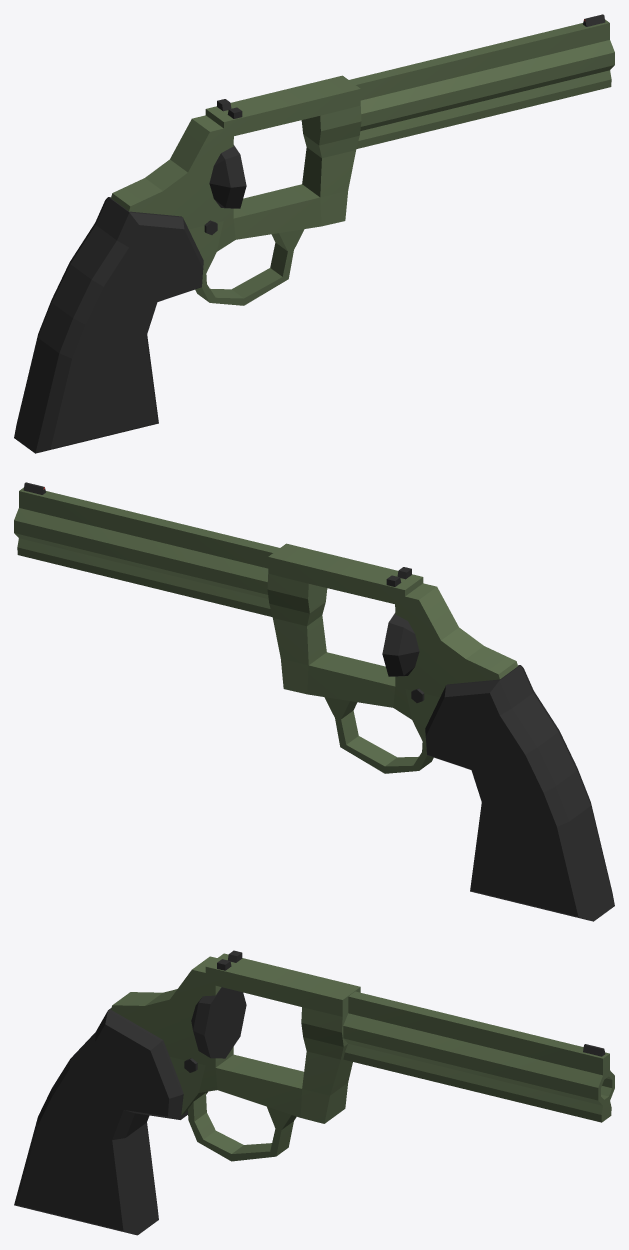
Rendered from Pistol5_05.fbx.
The picture shows the model from 3 angles, top to bottom: view 1: azimuth 30°, elevation 25°; view 2: azimuth 150°, elevation 25°; view 3: azimuth 330°, elevation 25°; orthographic projection.
Visible parts, largest first — view 1: Pistol5_05; view 2: Pistol5_05; view 3: Pistol5_05.
Part boxes in pixels (x1,y1,x2,y2): Pistol5_05: (14,14,614,453); Pistol5_05: (14,482,614,921); Pistol5_05: (14,950,614,1235).
Size of the model in its own units: 0.3781 by 0.18 by 0.0474.
